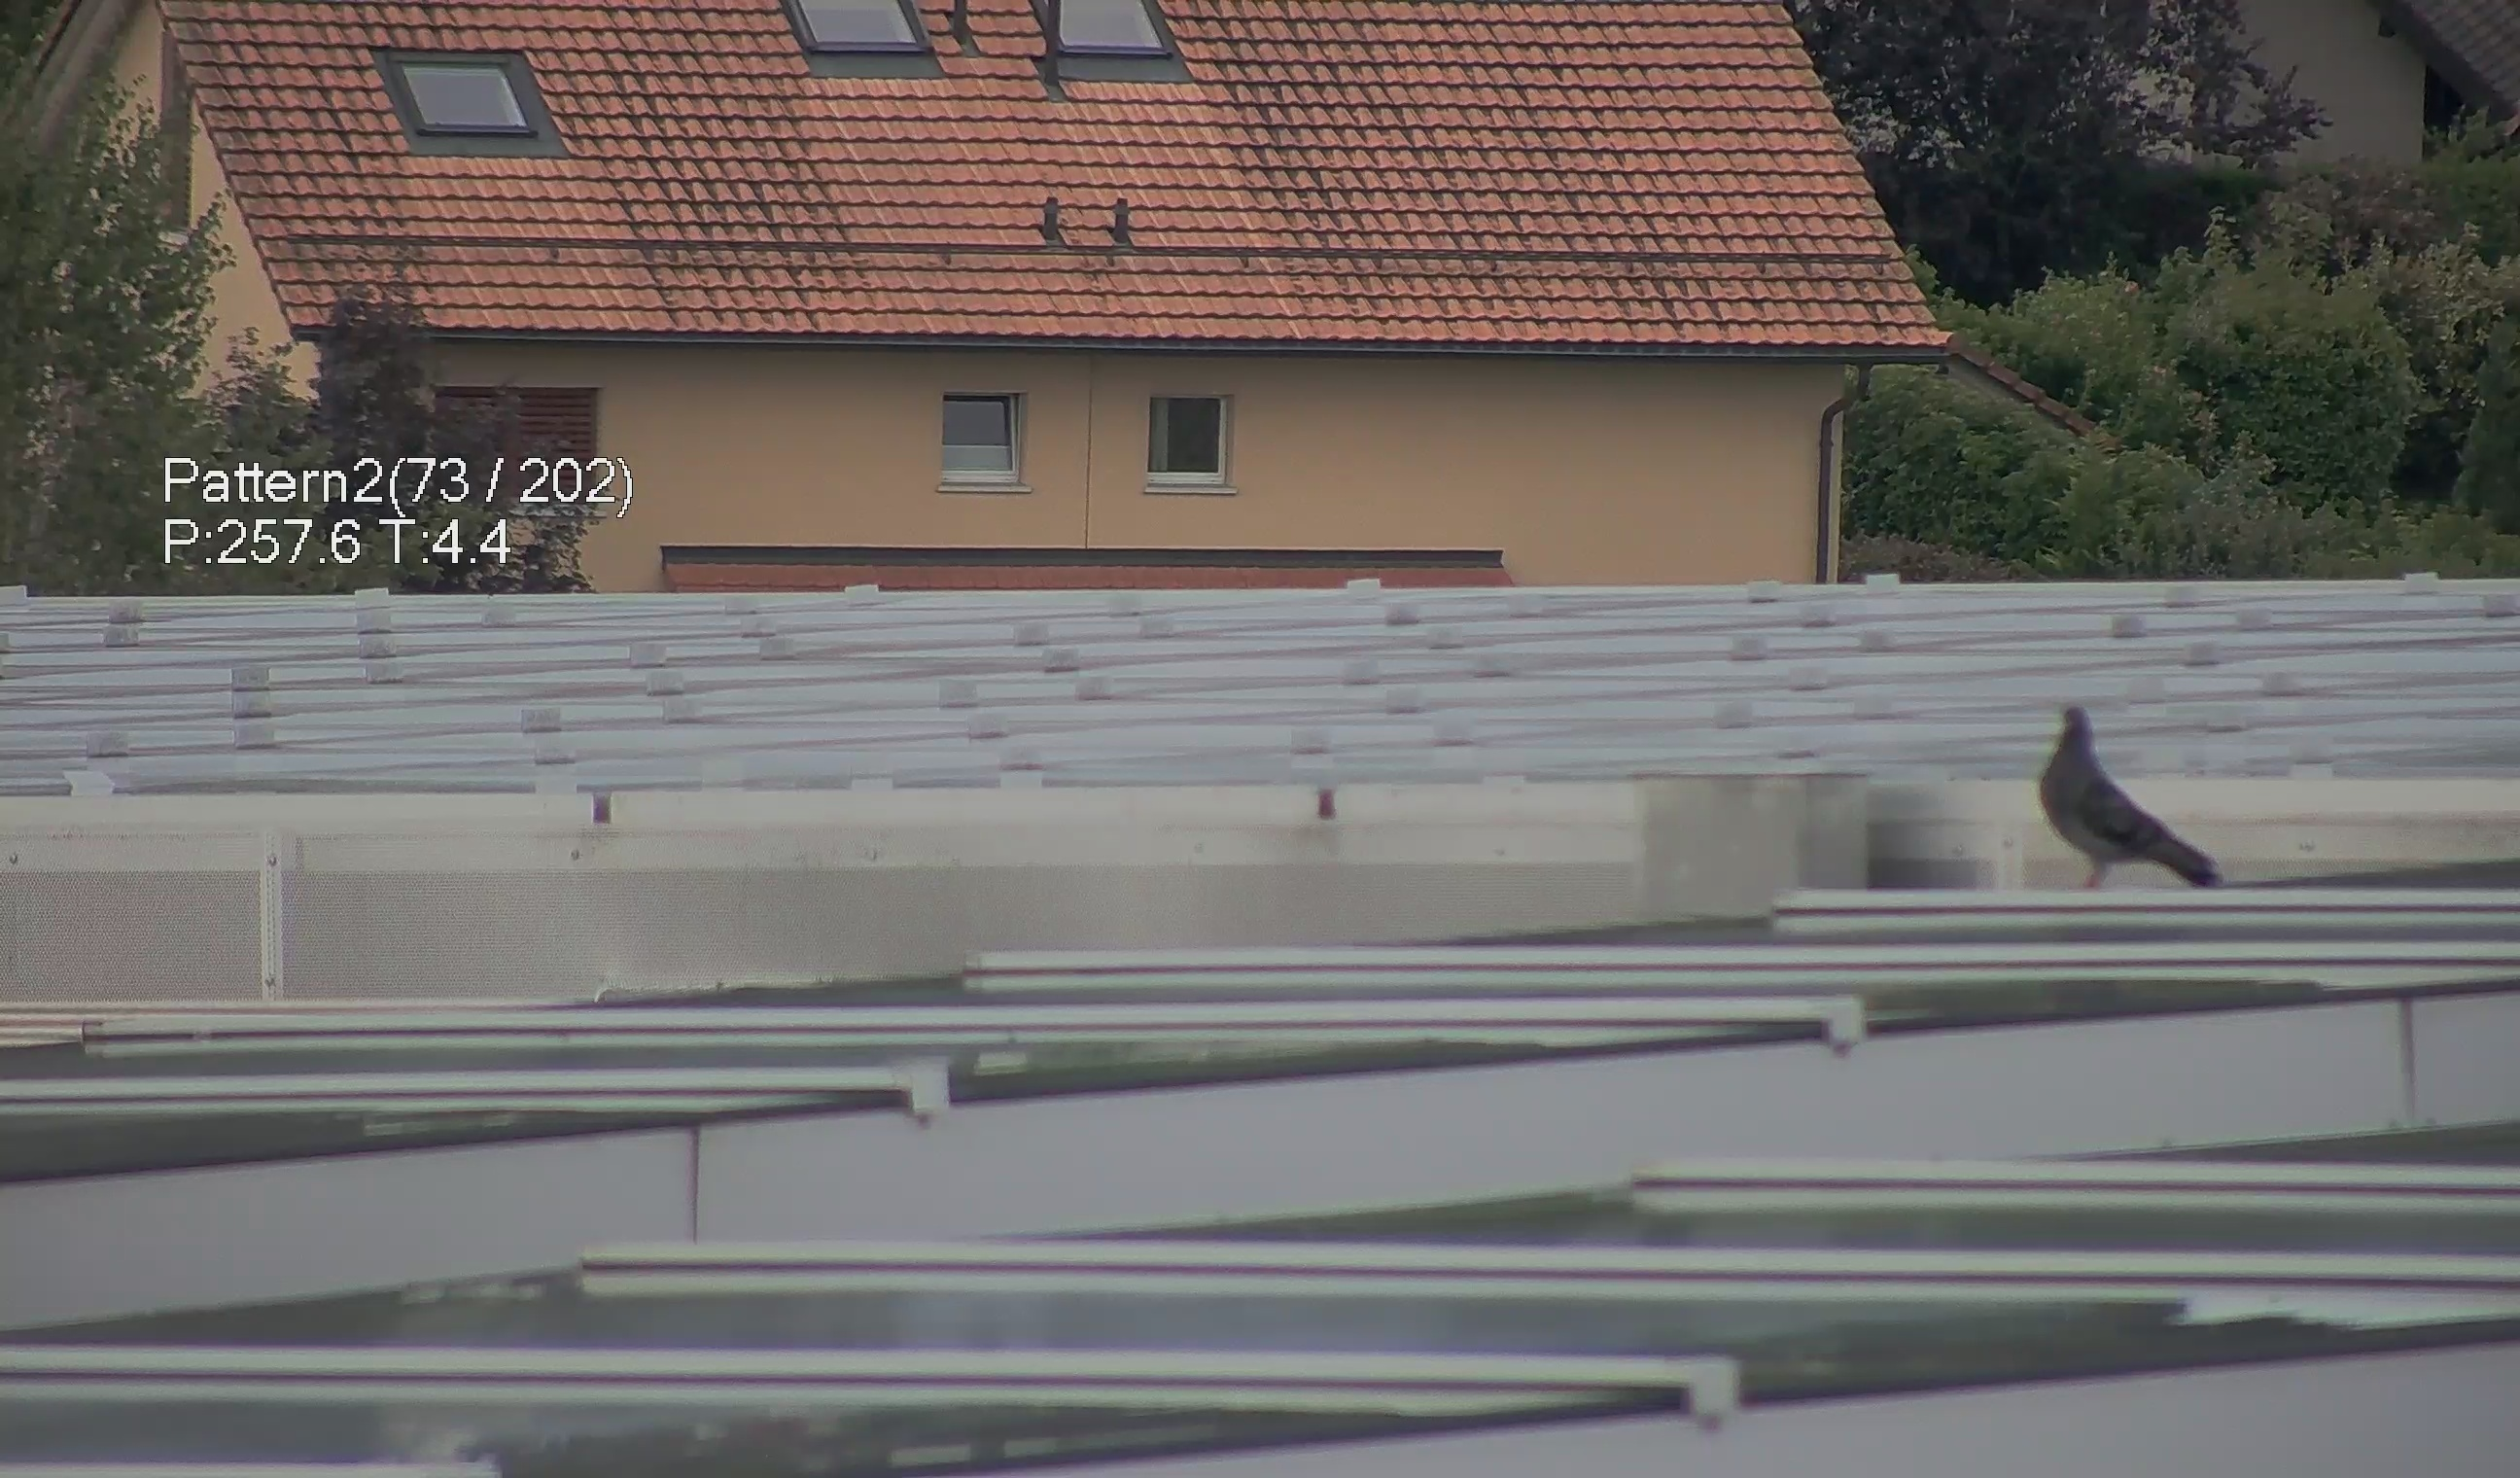Pigeon: (2033, 697, 2232, 910)
